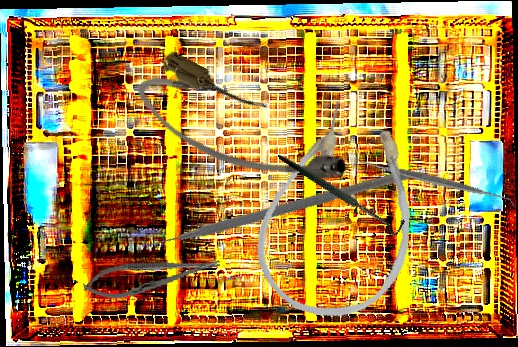Cannula: (241, 90, 442, 334), (125, 44, 359, 219)
Chopper: (129, 60, 412, 347)
Hook Surgical: (277, 115, 409, 268)
Needle Holder: (81, 247, 223, 305)
Spatula Surgical: (355, 101, 516, 261)
